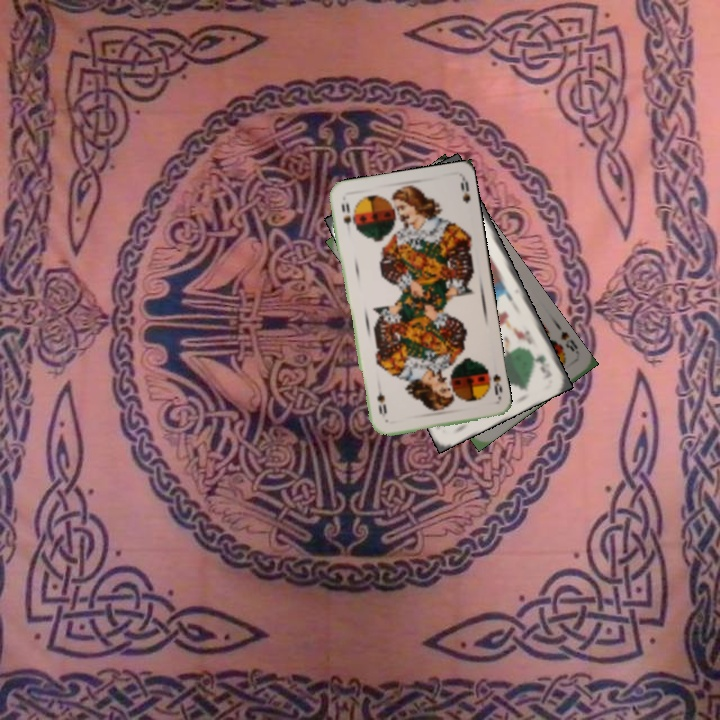GK: (532, 351, 549, 376)
S8: (557, 327, 583, 358)
SO: (481, 363, 505, 402), (337, 199, 353, 227)
